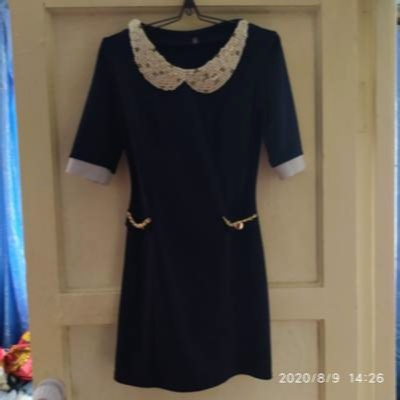Dress: (58, 16, 325, 394)
